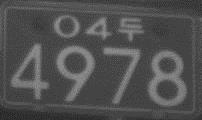0: (53, 13, 81, 39)
4: (9, 42, 49, 99), (85, 15, 113, 40)
7: (102, 46, 142, 106)
8: (146, 49, 188, 108)
9: (55, 44, 96, 103)
두: (117, 15, 144, 42)
